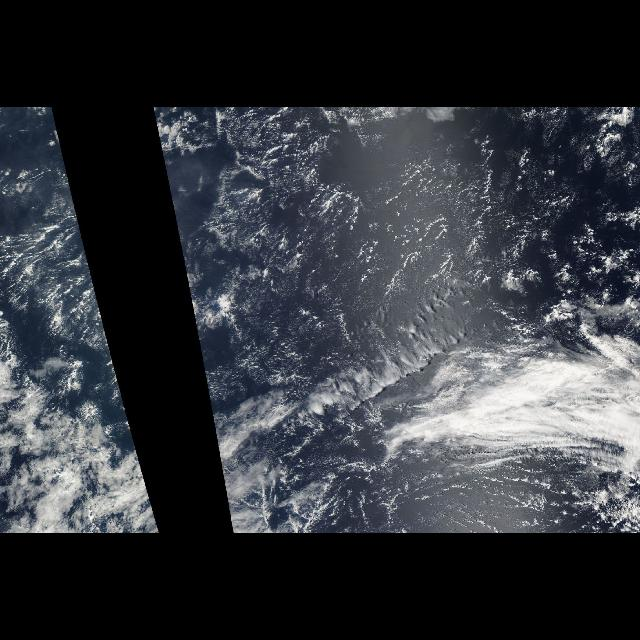Gravel: (208, 144, 482, 318)
Sugar: (153, 112, 634, 530), (2, 112, 158, 530)
